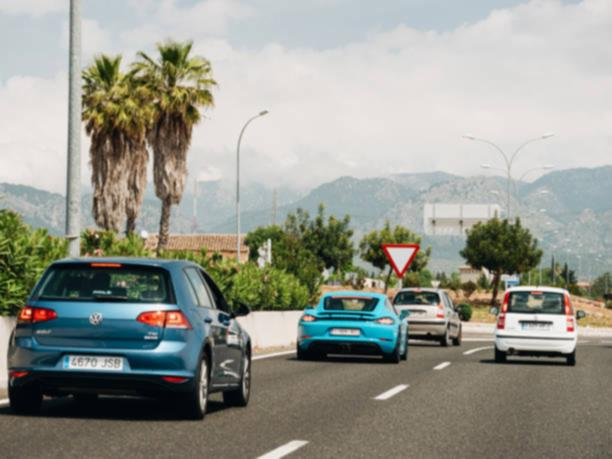Volkswagen: (85, 307, 110, 328)
